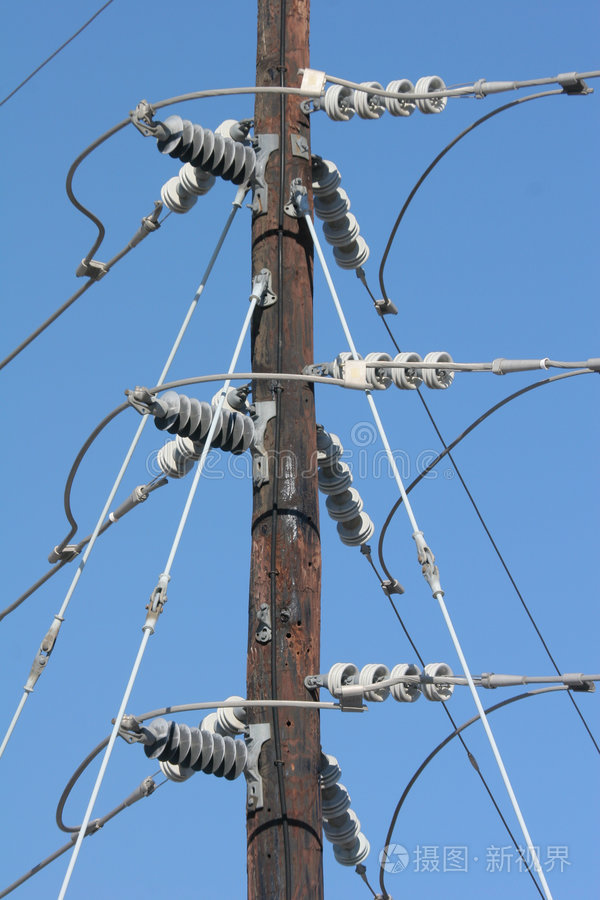insulator: (160, 384, 243, 476), (162, 118, 241, 212), (156, 113, 258, 183), (144, 717, 249, 783), (163, 702, 245, 783), (317, 435, 376, 547), (152, 391, 254, 454), (310, 166, 370, 268), (318, 76, 443, 122), (326, 660, 454, 704), (321, 757, 368, 863), (330, 348, 451, 389)
